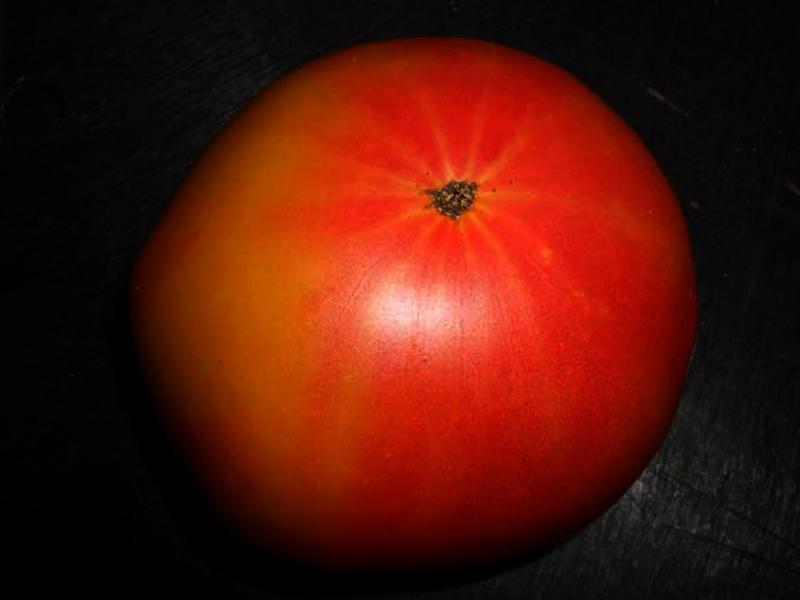Tomato: (135, 36, 697, 576)
